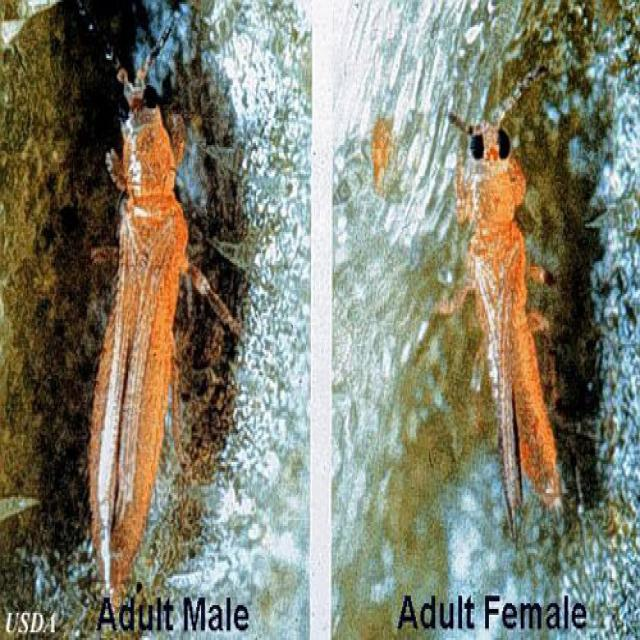Thrip-Adult-: (76, 29, 214, 598), (417, 63, 576, 526)
